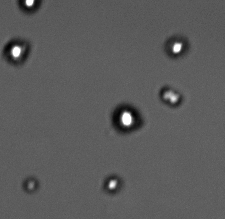Living Cell: (111, 102, 143, 134), (2, 37, 32, 66), (158, 82, 186, 110), (164, 33, 189, 60), (102, 172, 123, 196), (20, 175, 42, 195), (16, 1, 44, 14)
